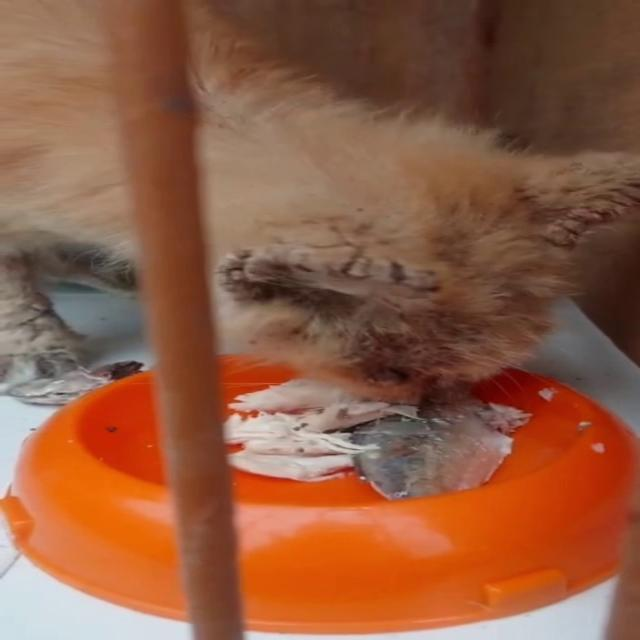ghe: (212, 214, 440, 358), (468, 154, 640, 264)
